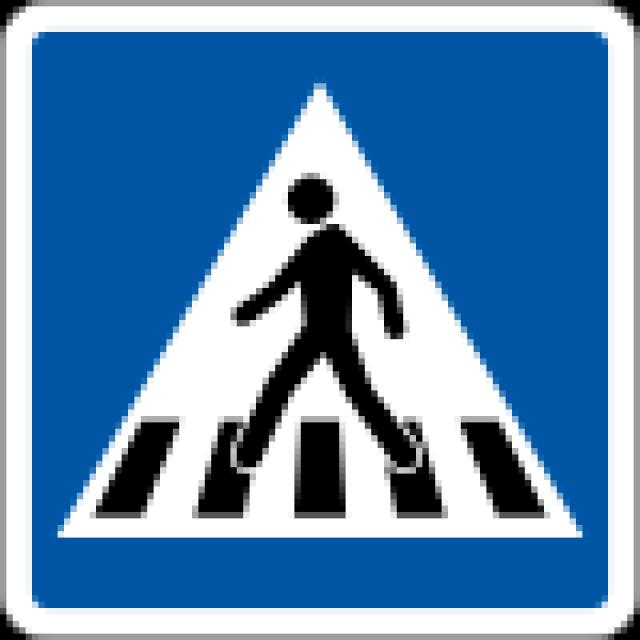indication: (7, 0, 640, 640)
